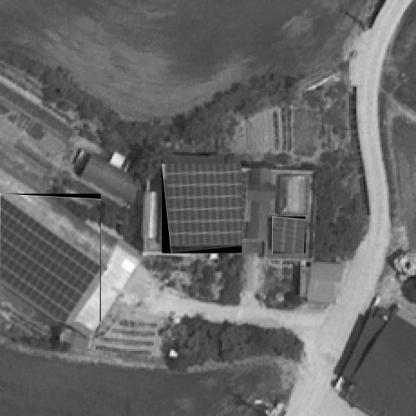solar-pv-panel: (0, 194, 100, 322), (165, 164, 242, 248), (273, 217, 306, 254)
